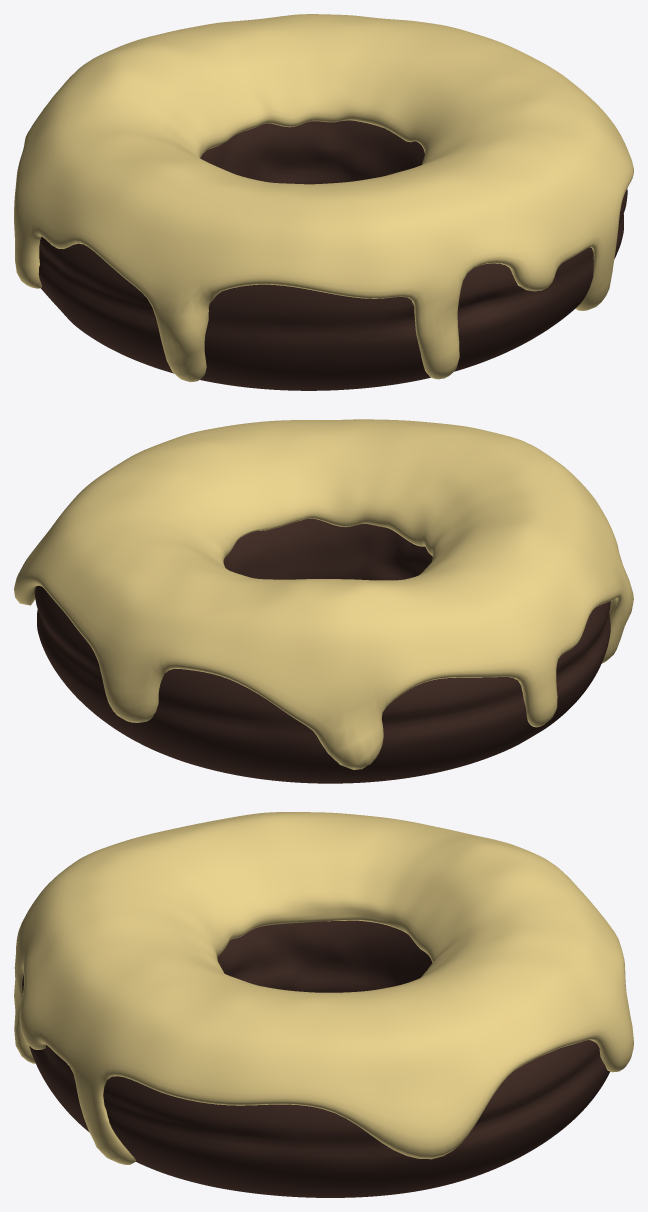
File: SINGLE_DONUT.fbx
The picture shows the model from 3 angles, top to bottom: view 1: azimuth 30°, elevation 25°; view 2: azimuth 150°, elevation 25°; view 3: azimuth 270°, elevation 25°; orthographic projection. The views are drawn at different scales.
Visible parts, largest first — view 1: icing.204; view 2: icing.204; view 3: icing.204.
Part boxes in pixels (x1=…): icing.204: x1=14, y1=14, x2=633, y2=390; icing.204: x1=14, y1=419, x2=633, y2=783; icing.204: x1=14, y1=812, x2=633, y2=1197.
Size of the model in its own units: 30.25 by 10.56 by 29.69.
